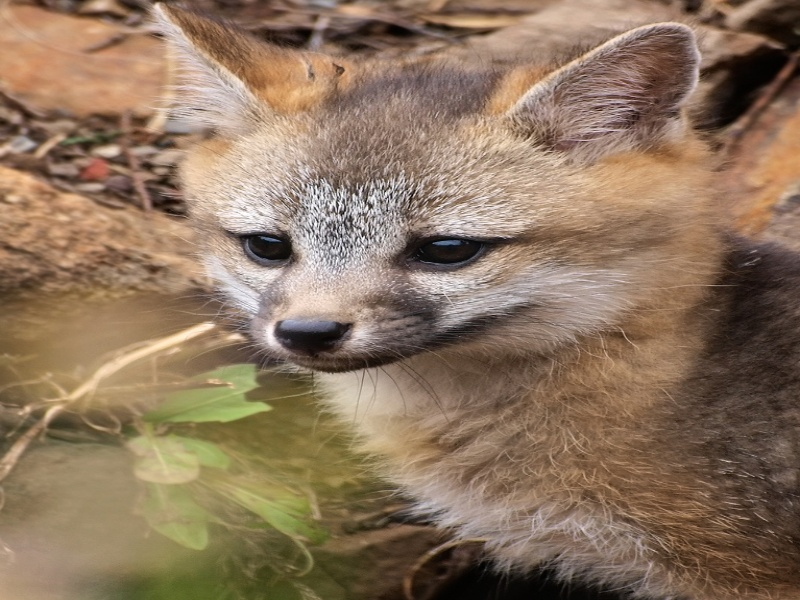fox: (153, 10, 800, 589)
